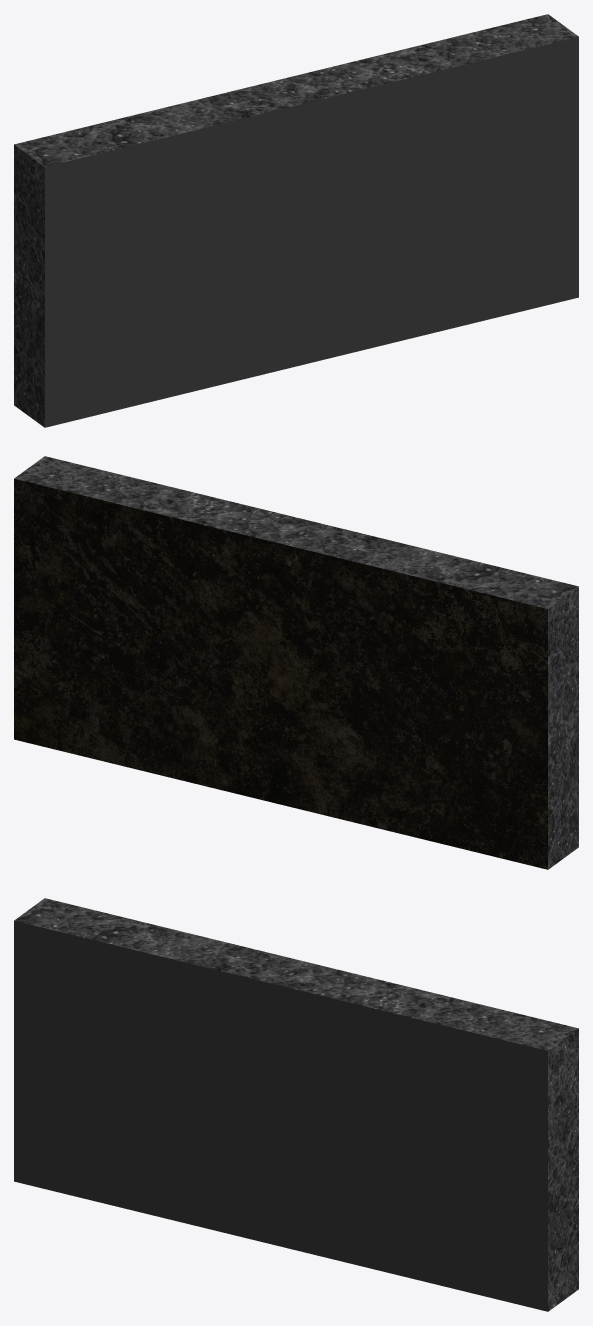
The model's file is SM_WallPlainHalf01.FBX.
3 views of the same model, one above another, from view 1: azimuth 30°, elevation 25°; view 2: azimuth 150°, elevation 25°; view 3: azimuth 330°, elevation 25° (orthographic).
Visible parts, largest first — view 1: SM_WallPlainHalf01_LOD0; view 2: SM_WallPlainHalf01_LOD0; view 3: SM_WallPlainHalf01_LOD0.
Boxes of the visible parts, bbox=[...] form: SM_WallPlainHalf01_LOD0: bbox=[14, 14, 578, 427]; SM_WallPlainHalf01_LOD0: bbox=[14, 456, 578, 869]; SM_WallPlainHalf01_LOD0: bbox=[14, 898, 578, 1311].
Size of the model in its own units: 300 by 30 by 140.
